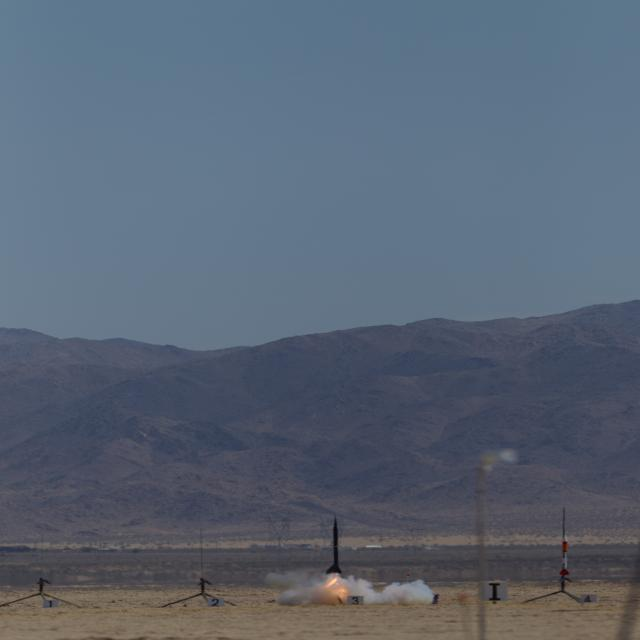Rocket: (324, 515, 344, 575), (558, 534, 572, 576)
